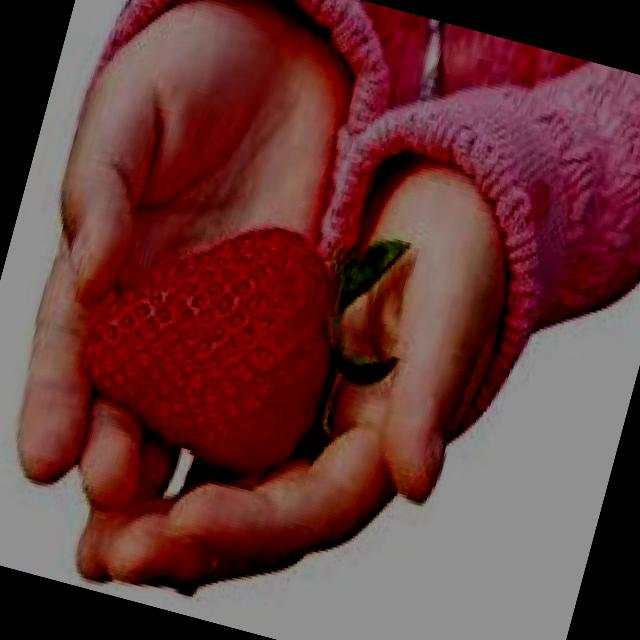Strawberry: (62, 184, 368, 493)
